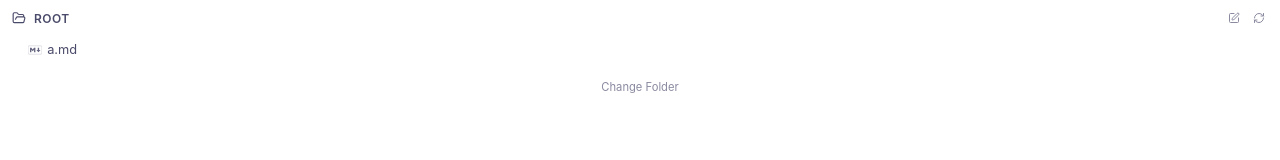
Test: FileExplorer › refreshes the file list on refresh click
Check: the text "a.md" is shown, box [47,42,77,57]
Click the button named "refresh" at (1259, 18), box [1250,10,1268,27]
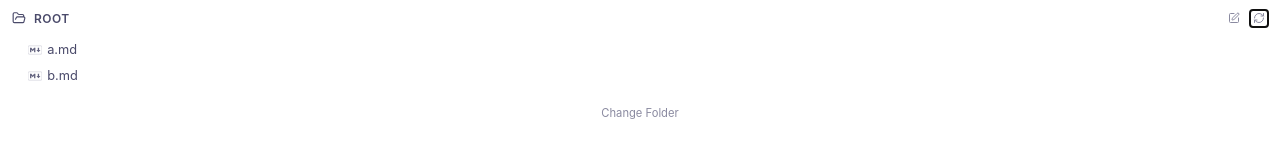
Check: the text "b.md" is shown, box [47,68,78,83]
